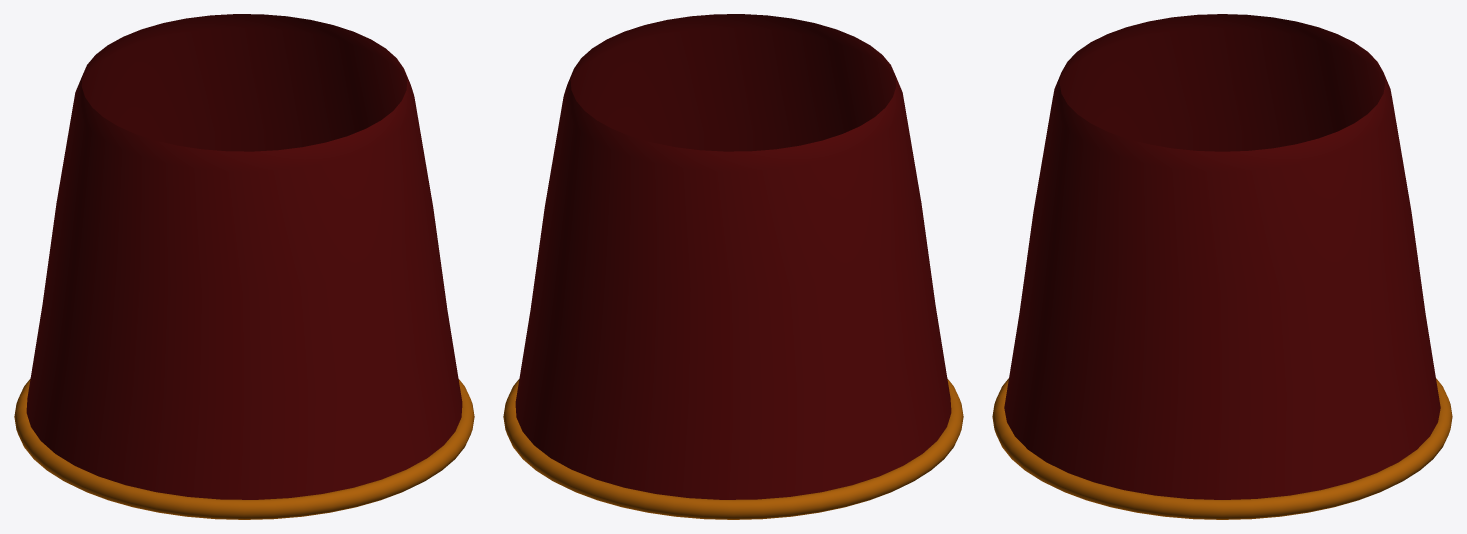
The model's file is dhoti-classic.glb.
The picture shows the model from 3 angles, left to right: view 1: azimuth 30°, elevation 25°; view 2: azimuth 150°, elevation 25°; view 3: azimuth 270°, elevation 25°; orthographic projection.
Parts seen in each view (by area): view 1: cloth, border; view 2: cloth, border; view 3: cloth, border.
Part boxes in pixels (box(x1,y1,x2,y2)): cloth: box(26, 14, 462, 499); border: box(14, 378, 474, 519); cloth: box(515, 14, 951, 499); border: box(503, 378, 963, 519); cloth: box(1004, 14, 1440, 499); border: box(992, 378, 1452, 519).
Size of the model in its own units: 0.974 by 0.8009 by 0.974.
